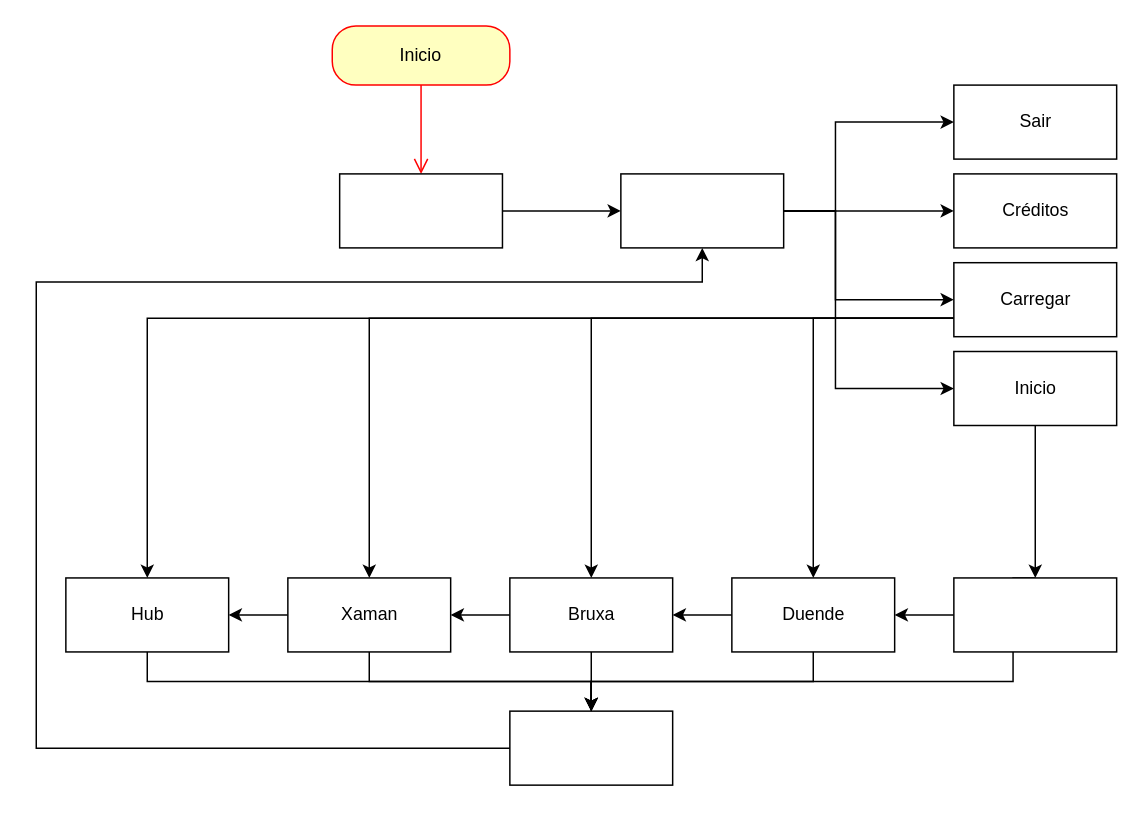
This 1143x823 diagram has some shape labels left out. Here are the shapes that lost their labels. From the top down, the box of each, then its label:
(338, 172, 502, 248): Logo
(619, 172, 784, 248): Menu
(952, 576, 1117, 652): Prologo
(508, 710, 673, 785): Pause
